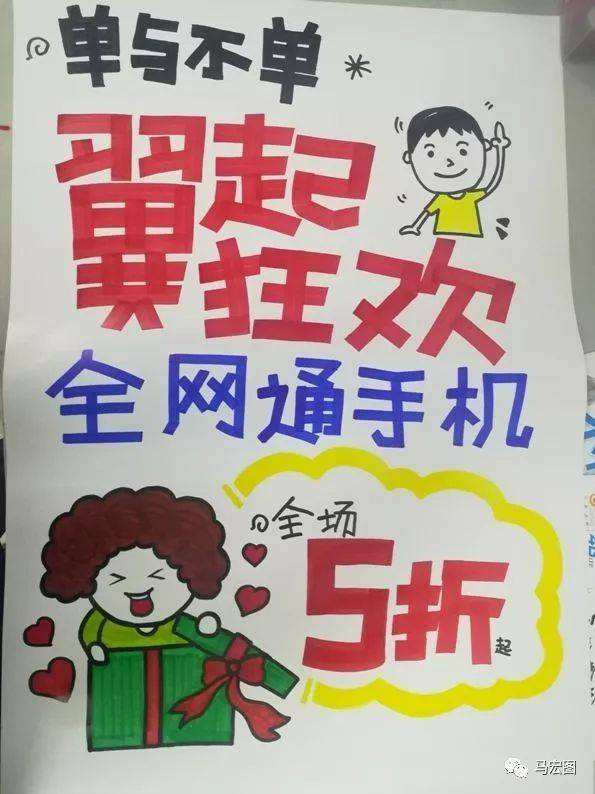bill: (13, 1, 590, 792)
